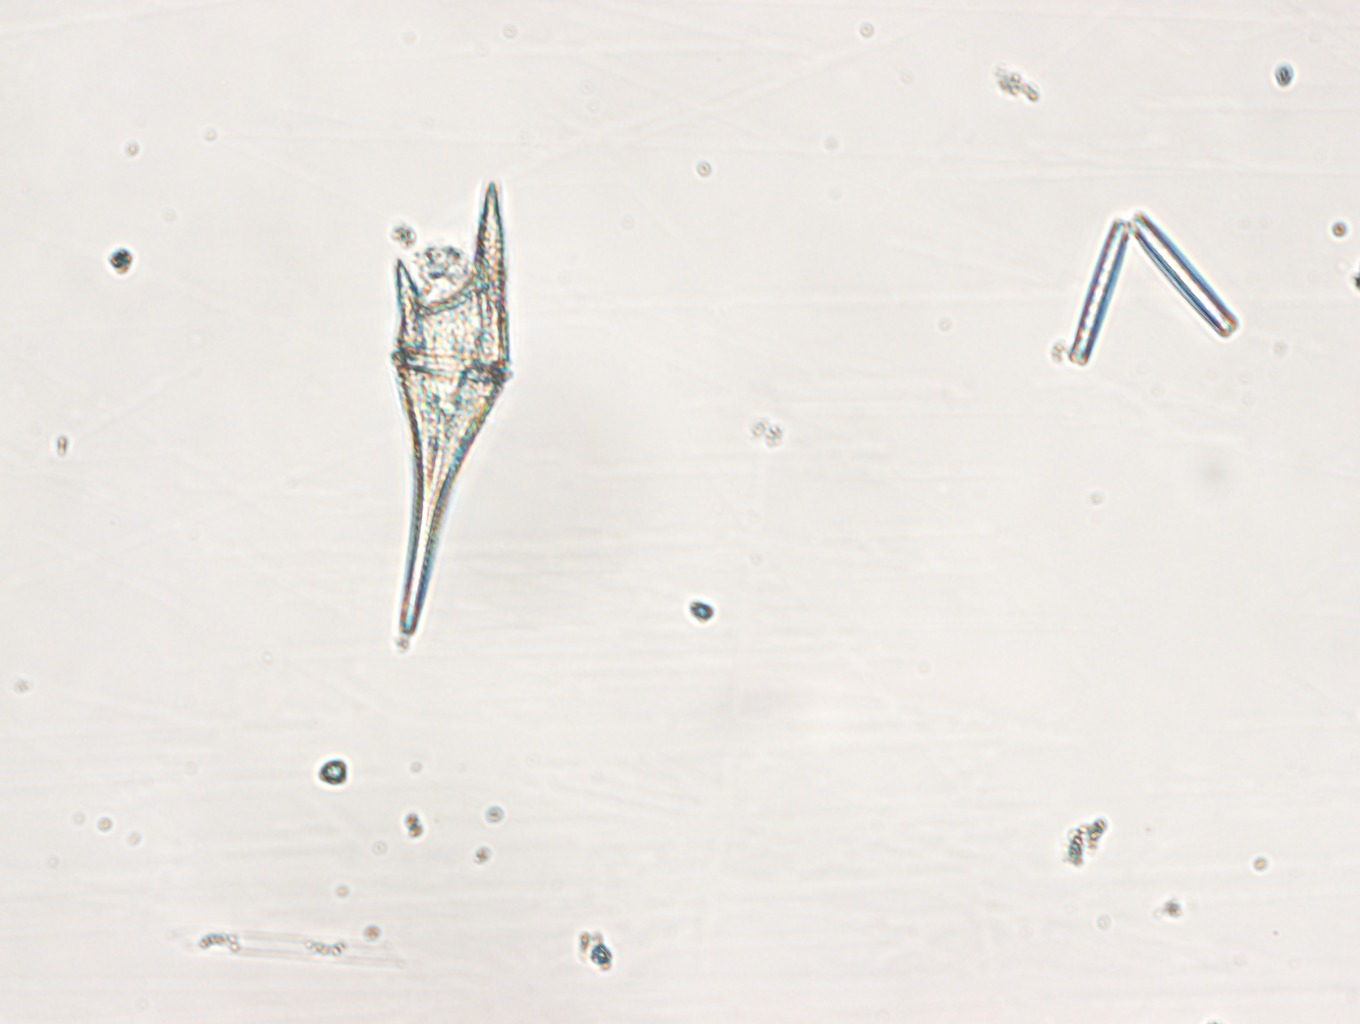ceratium furca: (377, 188, 521, 651)
thalassionema nitzschioides: (1062, 204, 1240, 372)
